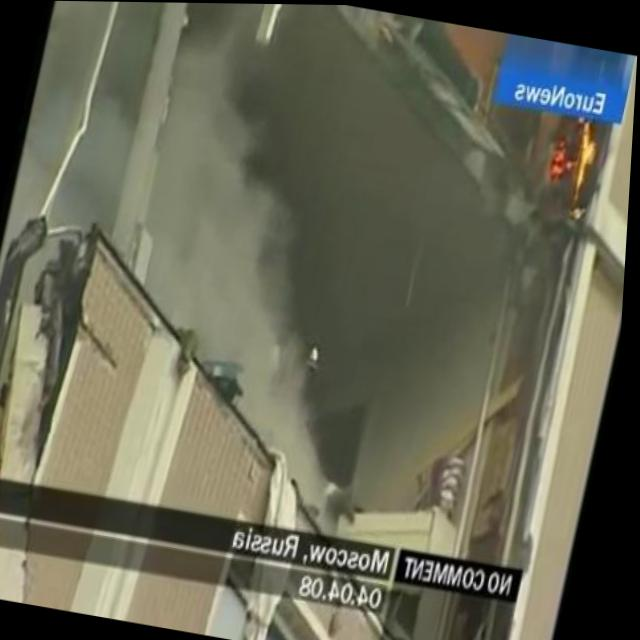fire: (540, 111, 608, 211)
